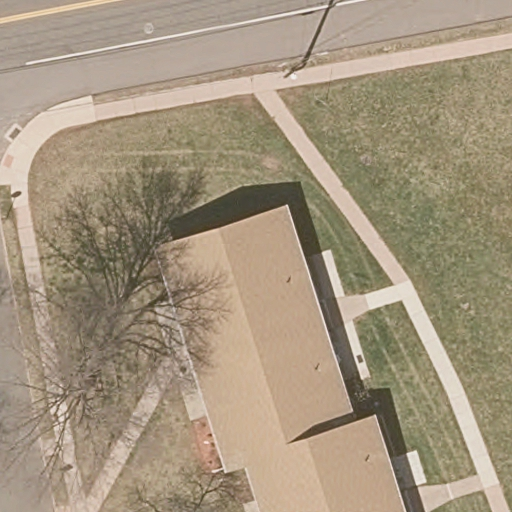DT: (280, 53, 310, 80)
